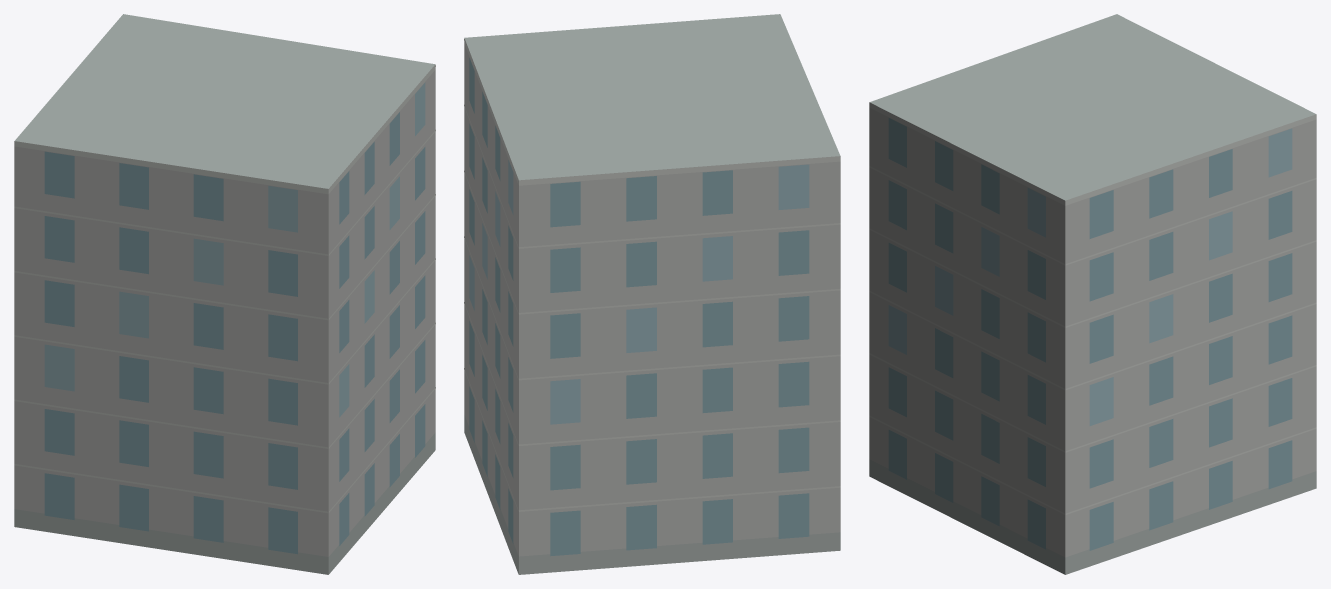
File: survey-upis-32893354.glb
3 views of the same model, side by side, from view 1: azimuth 30°, elevation 25°; view 2: azimuth 150°, elevation 25°; view 3: azimuth 270°, elevation 25° (orthographic). The views are drawn at different scales.
Visible parts, largest first — view 1: survey-upis-32893354.tmp; view 2: survey-upis-32893354.tmp; view 3: survey-upis-32893354.tmp.
Boxes of the visible parts, x1,y1,x2,y2 form: survey-upis-32893354.tmp: (14, 14, 435, 574); survey-upis-32893354.tmp: (464, 14, 840, 574); survey-upis-32893354.tmp: (869, 14, 1316, 574).
Size of the model in its own units: 18.74 by 17.5 by 18.97.
